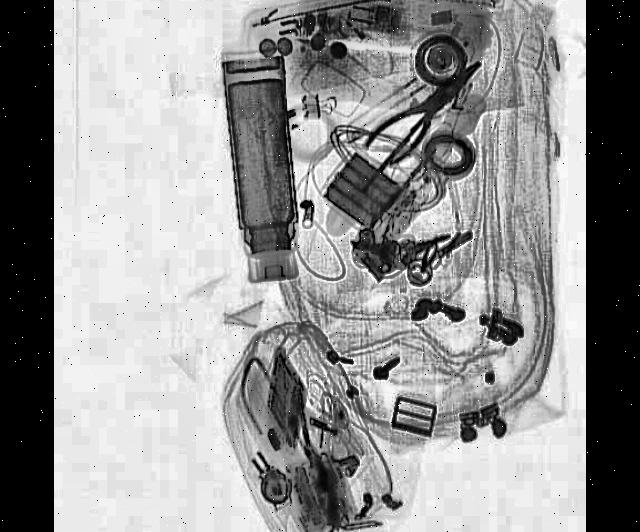Pliers: (362, 41, 488, 181)
